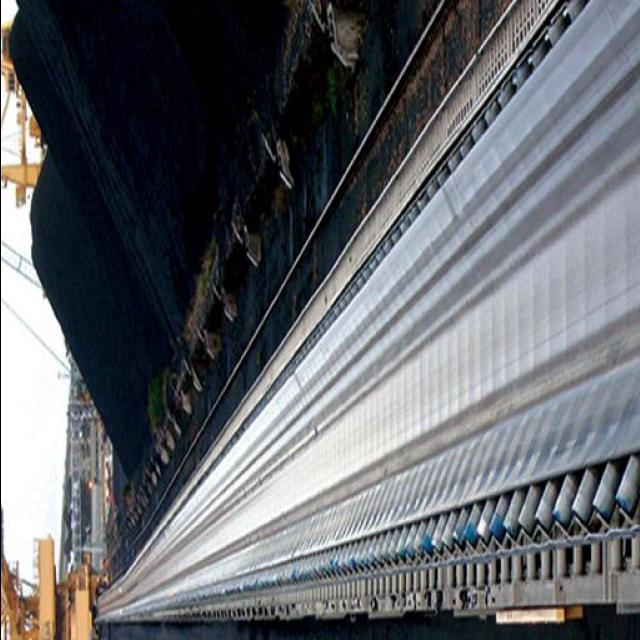conveyor: (97, 0, 640, 620)
